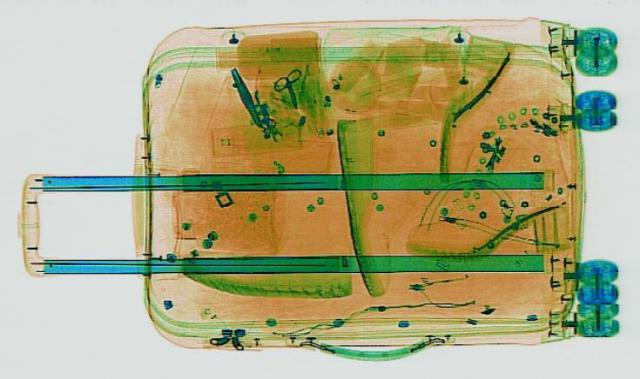Scissors: (266, 67, 312, 109)
